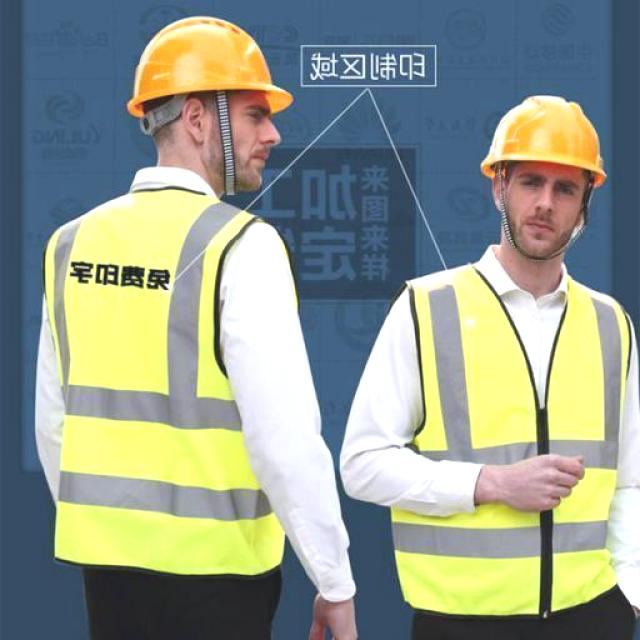face_nomask: (504, 163, 587, 253), (230, 96, 290, 182)
hand_noglove: (510, 448, 592, 518)
head_helmet: (120, 12, 300, 102), (476, 90, 610, 178)
person: (26, 5, 362, 640), (339, 81, 639, 640)
vest: (46, 198, 286, 568), (405, 257, 633, 601)
